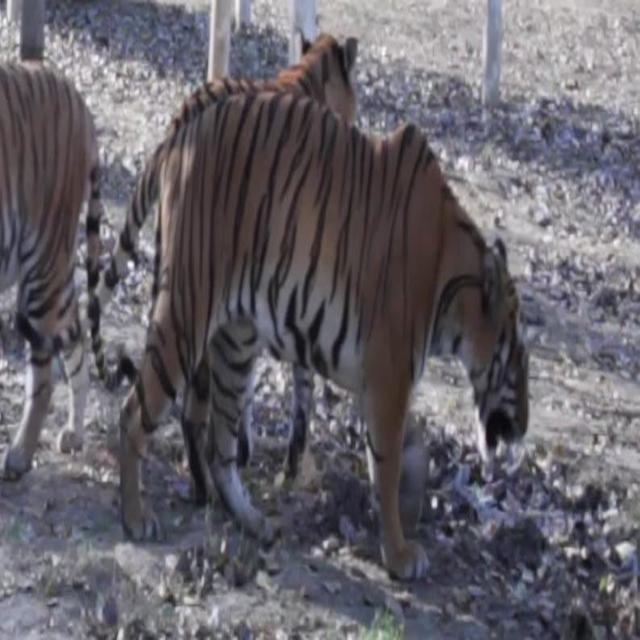tiger: (100, 87, 536, 597), (98, 29, 366, 496), (0, 51, 132, 538)
